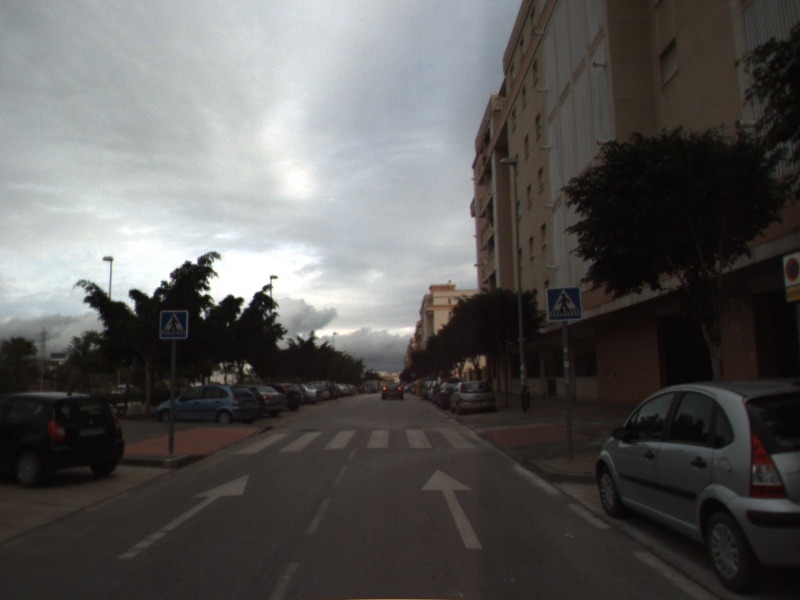STRAIGHT: (115, 472, 251, 561), (419, 467, 484, 551)
